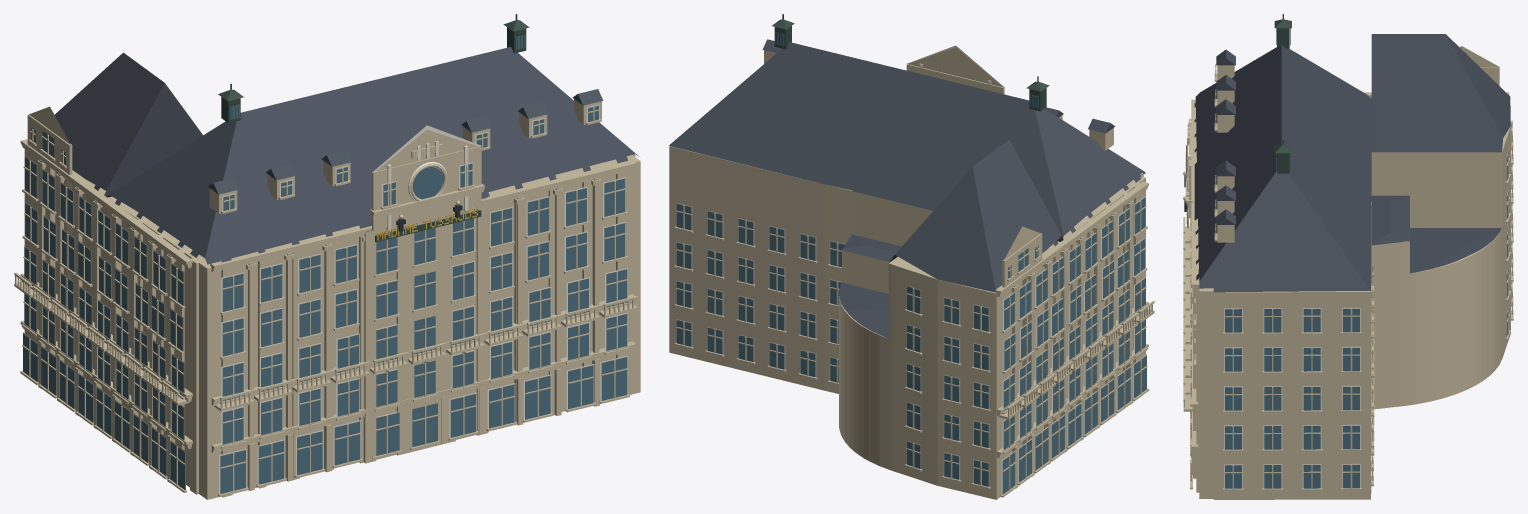
Rendered from madame-tussauds.glb.
The picture shows the model from 3 angles, left to right: view 1: azimuth 30°, elevation 25°; view 2: azimuth 150°, elevation 25°; view 3: azimuth 270°, elevation 25°; orthographic projection. The views are drawn at different scales.
Parts seen in each view (by area): view 1: madame-tussauds; view 2: madame-tussauds; view 3: madame-tussauds.
Boxes of the visible parts, x1,y1,x2,y2 form: madame-tussauds: (14, 14, 640, 499); madame-tussauds: (669, 14, 1154, 499); madame-tussauds: (1183, 14, 1513, 499).
Bounding box in the file's own units: 45.47 × 34.22 × 31.48.
